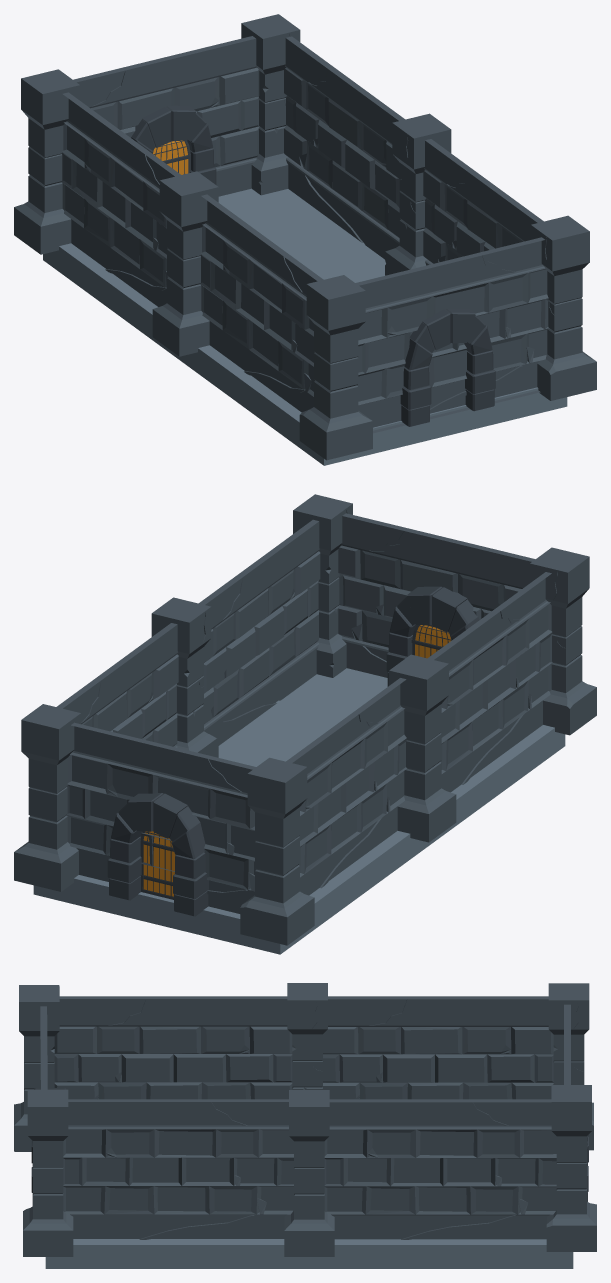
File: Room2I.obj
3 views of the same model, one above another, from view 1: azimuth 30°, elevation 25°; view 2: azimuth 150°, elevation 25°; view 3: azimuth 270°, elevation 25° (orthographic). The views are drawn at different scales.
Parts seen in each view (by area): view 1: Pillar+Wall.006, Pillar+Wall.007, Pillar+Wall, Cube.232, Pillar+Wall.001, Arch.004, Arch.005, door.005; view 2: Pillar+Wall.006, Pillar+Wall.007, Pillar+Wall.001, Pillar+Wall, Cube.232, Arch.005, Arch.004, door.005, door.004; view 3: Pillar+Wall.007, Pillar+Wall.006, Cube.232, Pillar+Wall.001, Pillar+Wall.
Boxes of the visible parts, box(x1,y1,x2,y2) form: Pillar+Wall.006: box(14, 69, 323, 412); Pillar+Wall.007: box(284, 36, 596, 400); Pillar+Wall: box(299, 237, 548, 460); Cube.232: box(43, 188, 567, 465); Pillar+Wall.001: box(73, 14, 300, 196); Arch.004: box(400, 308, 495, 426); Arch.005: box(131, 105, 216, 184); door.005: box(152, 140, 190, 174); Pillar+Wall.006: box(240, 572, 552, 945); Pillar+Wall.007: box(56, 494, 352, 757); Pillar+Wall.001: box(14, 704, 256, 913); Pillar+Wall: box(338, 513, 596, 735); Cube.232: box(33, 668, 565, 954); Arch.005: box(107, 793, 208, 916); Arch.004: box(386, 586, 479, 686); door.005: box(140, 831, 175, 899); door.004: box(411, 625, 451, 658); Pillar+Wall.007: box(23, 1089, 556, 1256); Pillar+Wall.006: box(54, 983, 593, 1150); Cube.232: box(45, 1239, 573, 1268); Pillar+Wall.001: box(546, 1004, 596, 1251); Pillar+Wall: box(14, 985, 59, 1151).
Bounding box in the file's own units: 5.75 × 3.51 × 11.05.
Materials: 1 (1 with a texture image).
